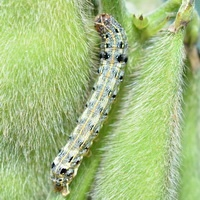insect: (51, 13, 127, 195)
